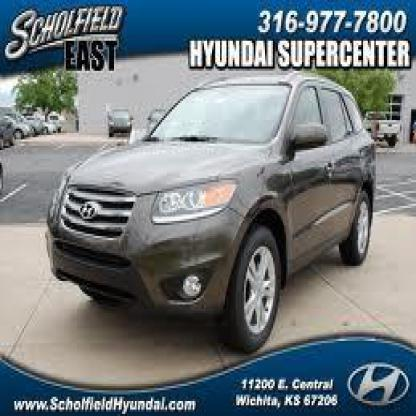Vehicle: (47, 75, 379, 358)
